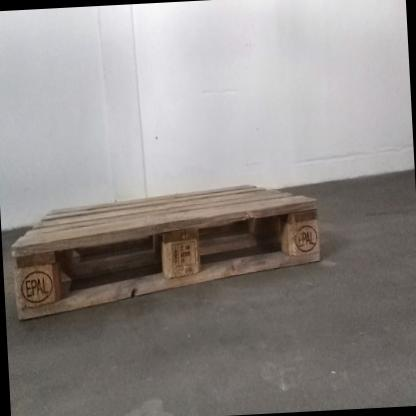BoxFace: (6, 177, 323, 327)
